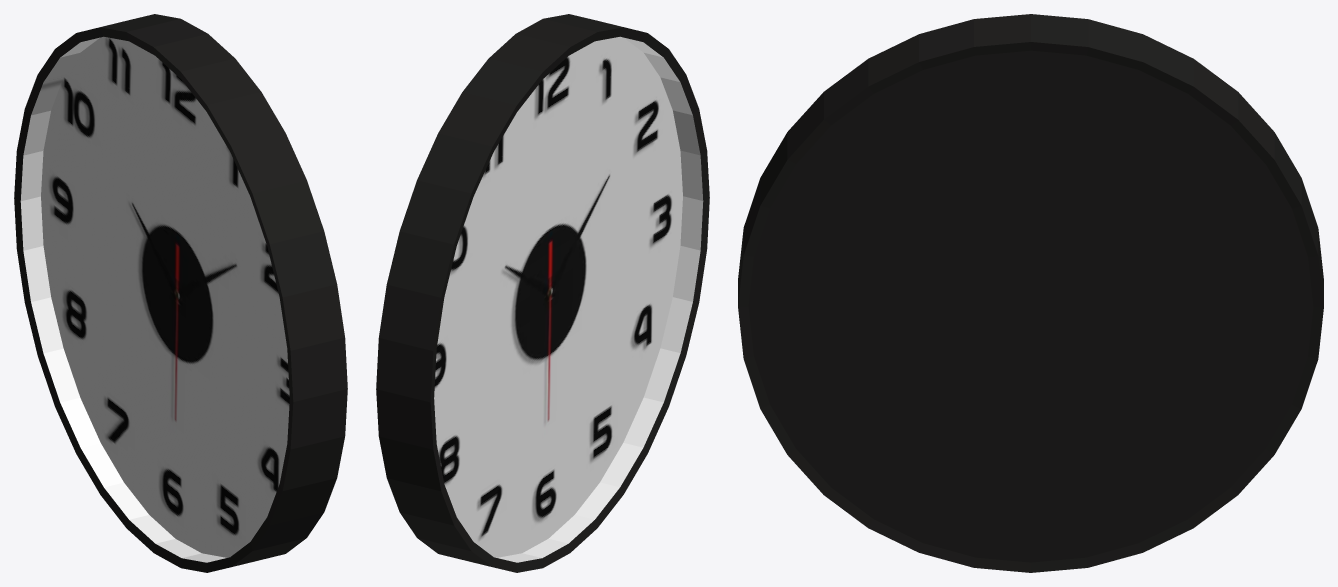
File: JAM.glb
The picture shows the model from 3 angles, left to right: view 1: azimuth 30°, elevation 25°; view 2: azimuth 150°, elevation 25°; view 3: azimuth 270°, elevation 25°; orthographic projection. The views are drawn at different scales.
Parts seen in each view (by area): view 1: Circle; view 2: Circle; view 3: Circle.
Part boxes in pixels (x1,y1,x2,y2): Circle: [14, 14, 347, 572]; Circle: [376, 14, 709, 572]; Circle: [738, 14, 1323, 572].
Bounding box in the file's own units: 0.8362 × 7.41 × 7.41.
1 material, 1 textured.
